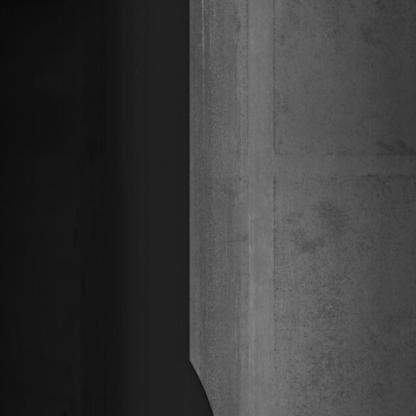crescent_gap: (183, 350, 227, 416)
